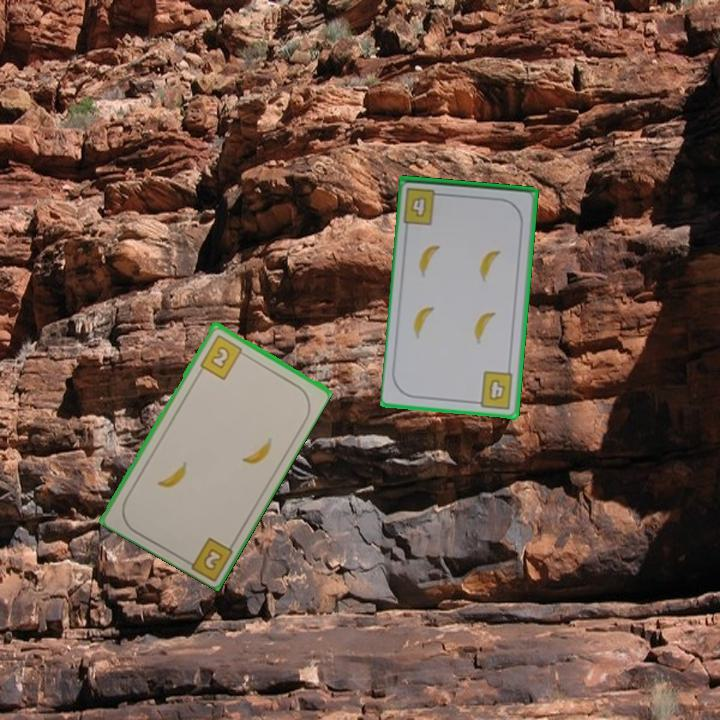2b: (196, 331, 249, 382), (199, 544, 226, 573)
4b: (400, 184, 447, 227), (471, 368, 516, 412)
